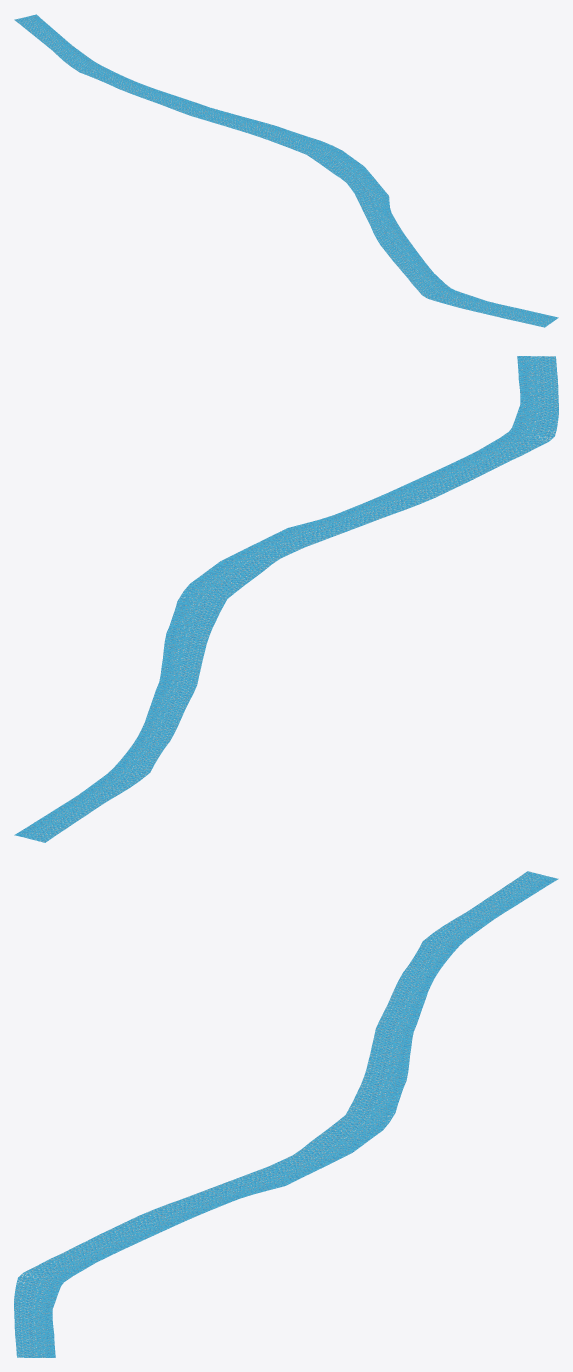
3 renders of one model, top to bottom at view 1: azimuth 30°, elevation 25°; view 2: azimuth 150°, elevation 25°; view 3: azimuth 330°, elevation 25°, orthographic. The views are drawn at different scales.
Visible parts, largest first — view 1: River_Mesh.006, River_Mesh_Upper.006; view 2: River_Mesh.006, River_Mesh_Upper.006; view 3: River_Mesh.006, River_Mesh_Upper.006.
Boxes of the visible parts, x1,y1,x2,y2 form: River_Mesh.006: [14, 14, 558, 327]; River_Mesh_Upper.006: [15, 16, 555, 326]; River_Mesh.006: [14, 356, 558, 842]; River_Mesh_Upper.006: [15, 356, 558, 841]; River_Mesh.006: [14, 871, 558, 1357]; River_Mesh_Upper.006: [14, 872, 557, 1357].
Bounding box in the file's own units: 87.93 × 0.0638 × 579.
Materials: 2 (2 with a texture image).
